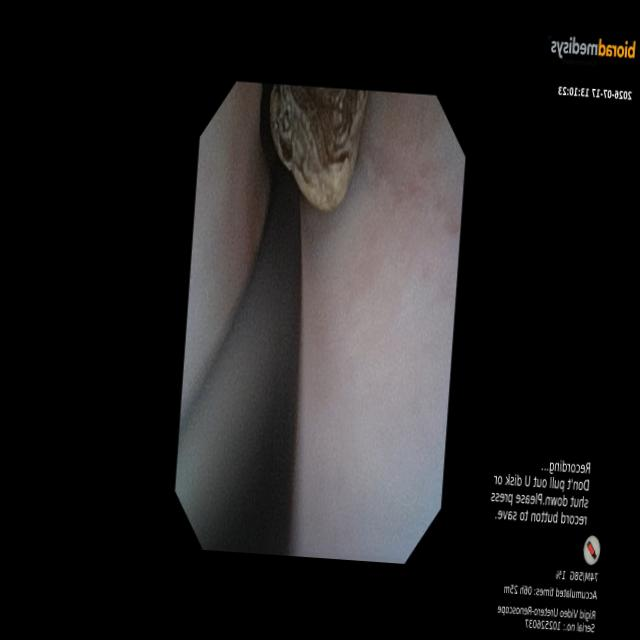stone-new: (270, 85, 367, 210)
